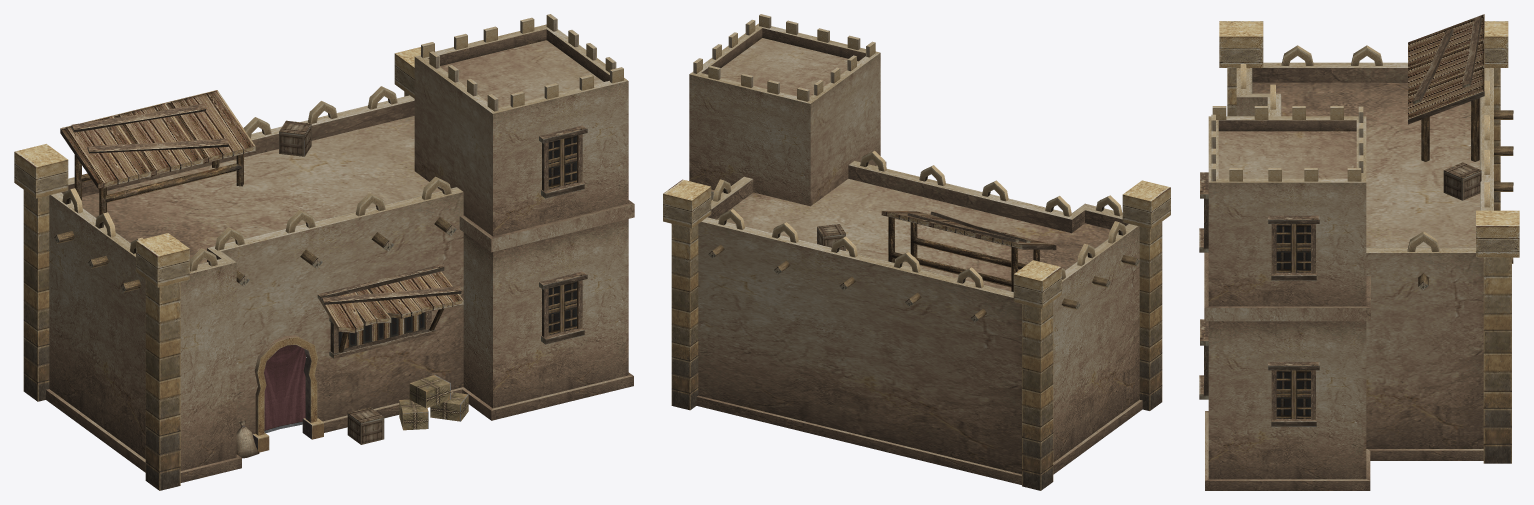
The model's file is SC_tamalagebi_22.FBX.
The picture shows the model from 3 angles, left to right: view 1: azimuth 30°, elevation 25°; view 2: azimuth 150°, elevation 25°; view 3: azimuth 270°, elevation 25°; orthographic projection. The views are drawn at different scales.
Visible parts, largest first — view 1: SC_tamalagebi_22; view 2: SC_tamalagebi_22; view 3: SC_tamalagebi_22.
Part boxes in pixels (left/top/right/bottom): SC_tamalagebi_22: left=14, top=14, right=634, bottom=490; SC_tamalagebi_22: left=663, top=14, right=1170, bottom=490; SC_tamalagebi_22: left=1199, top=14, right=1519, bottom=490.
Bounding box in the file's own units: 1160 × 741 × 675.
